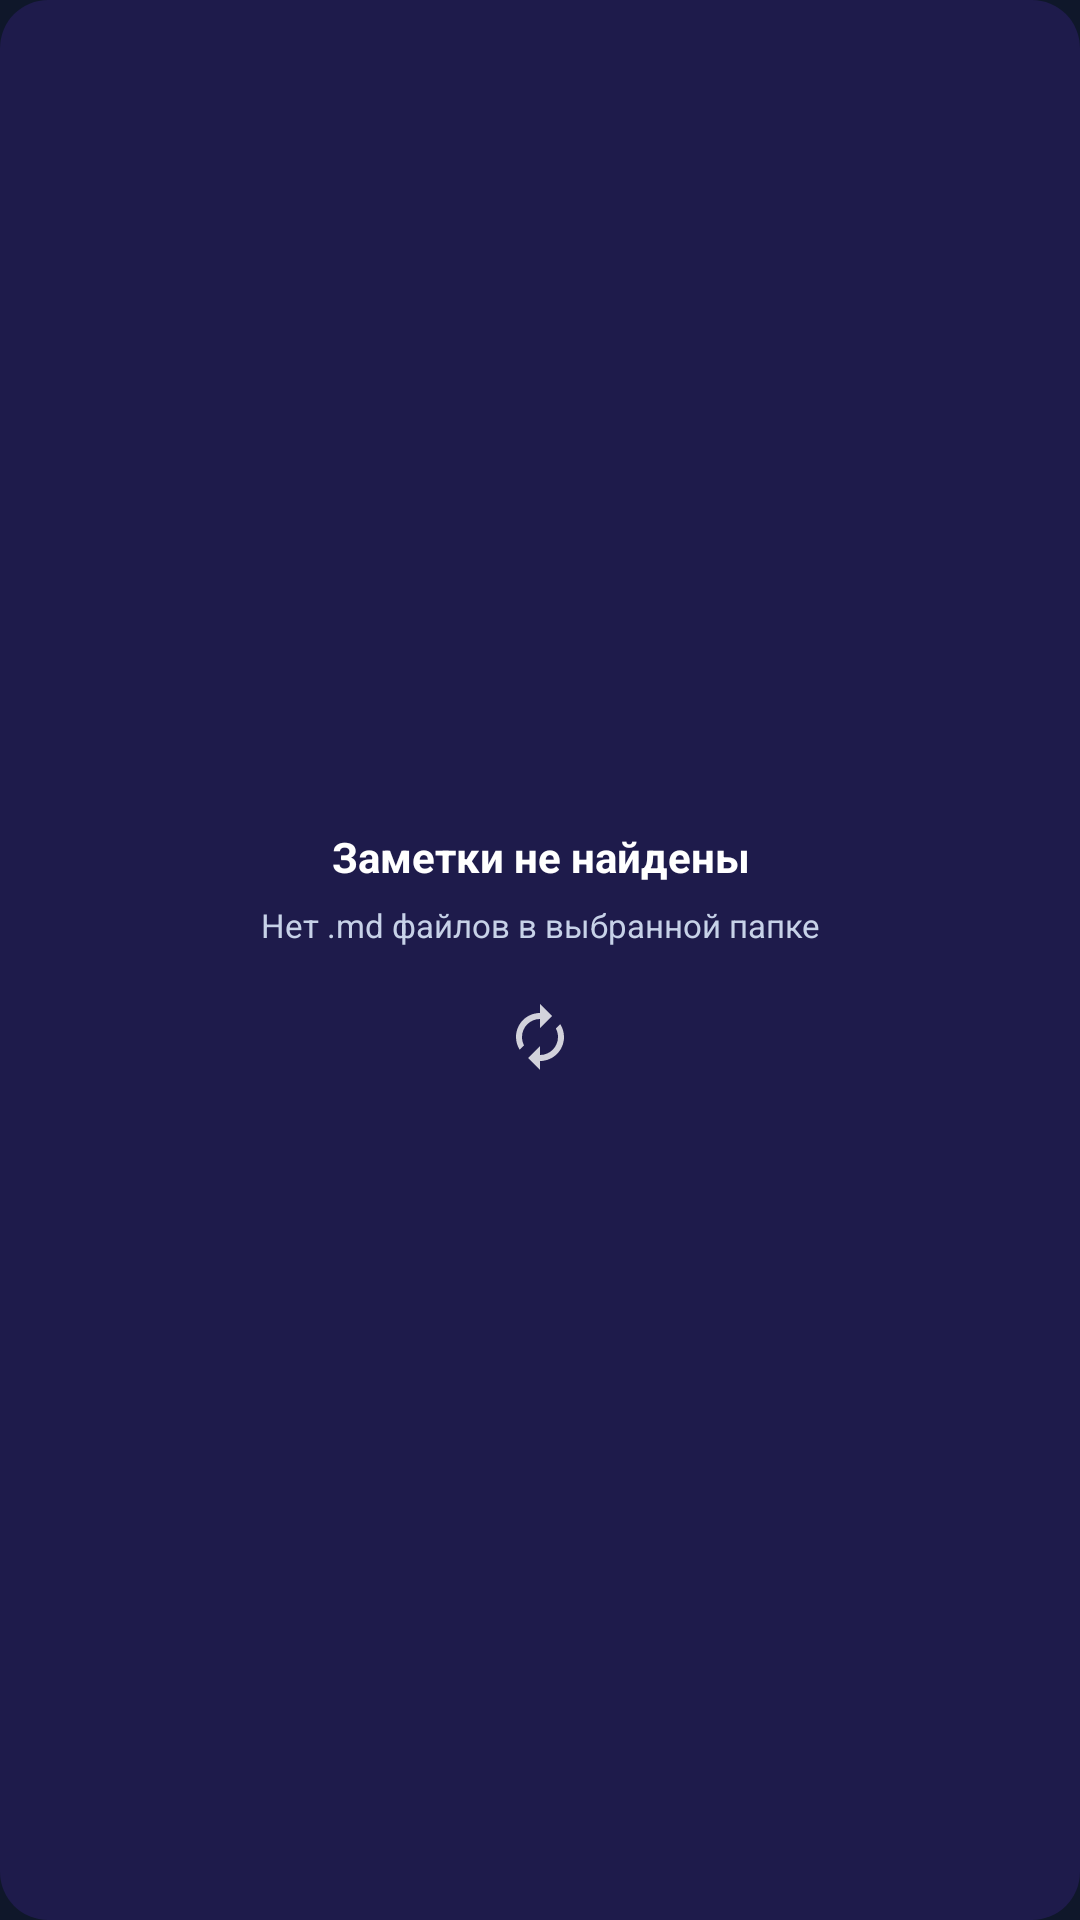

Icon click points for this 1080 x 1920 phone screenshot, format [x,y]:
Обновить: [540,1037]
